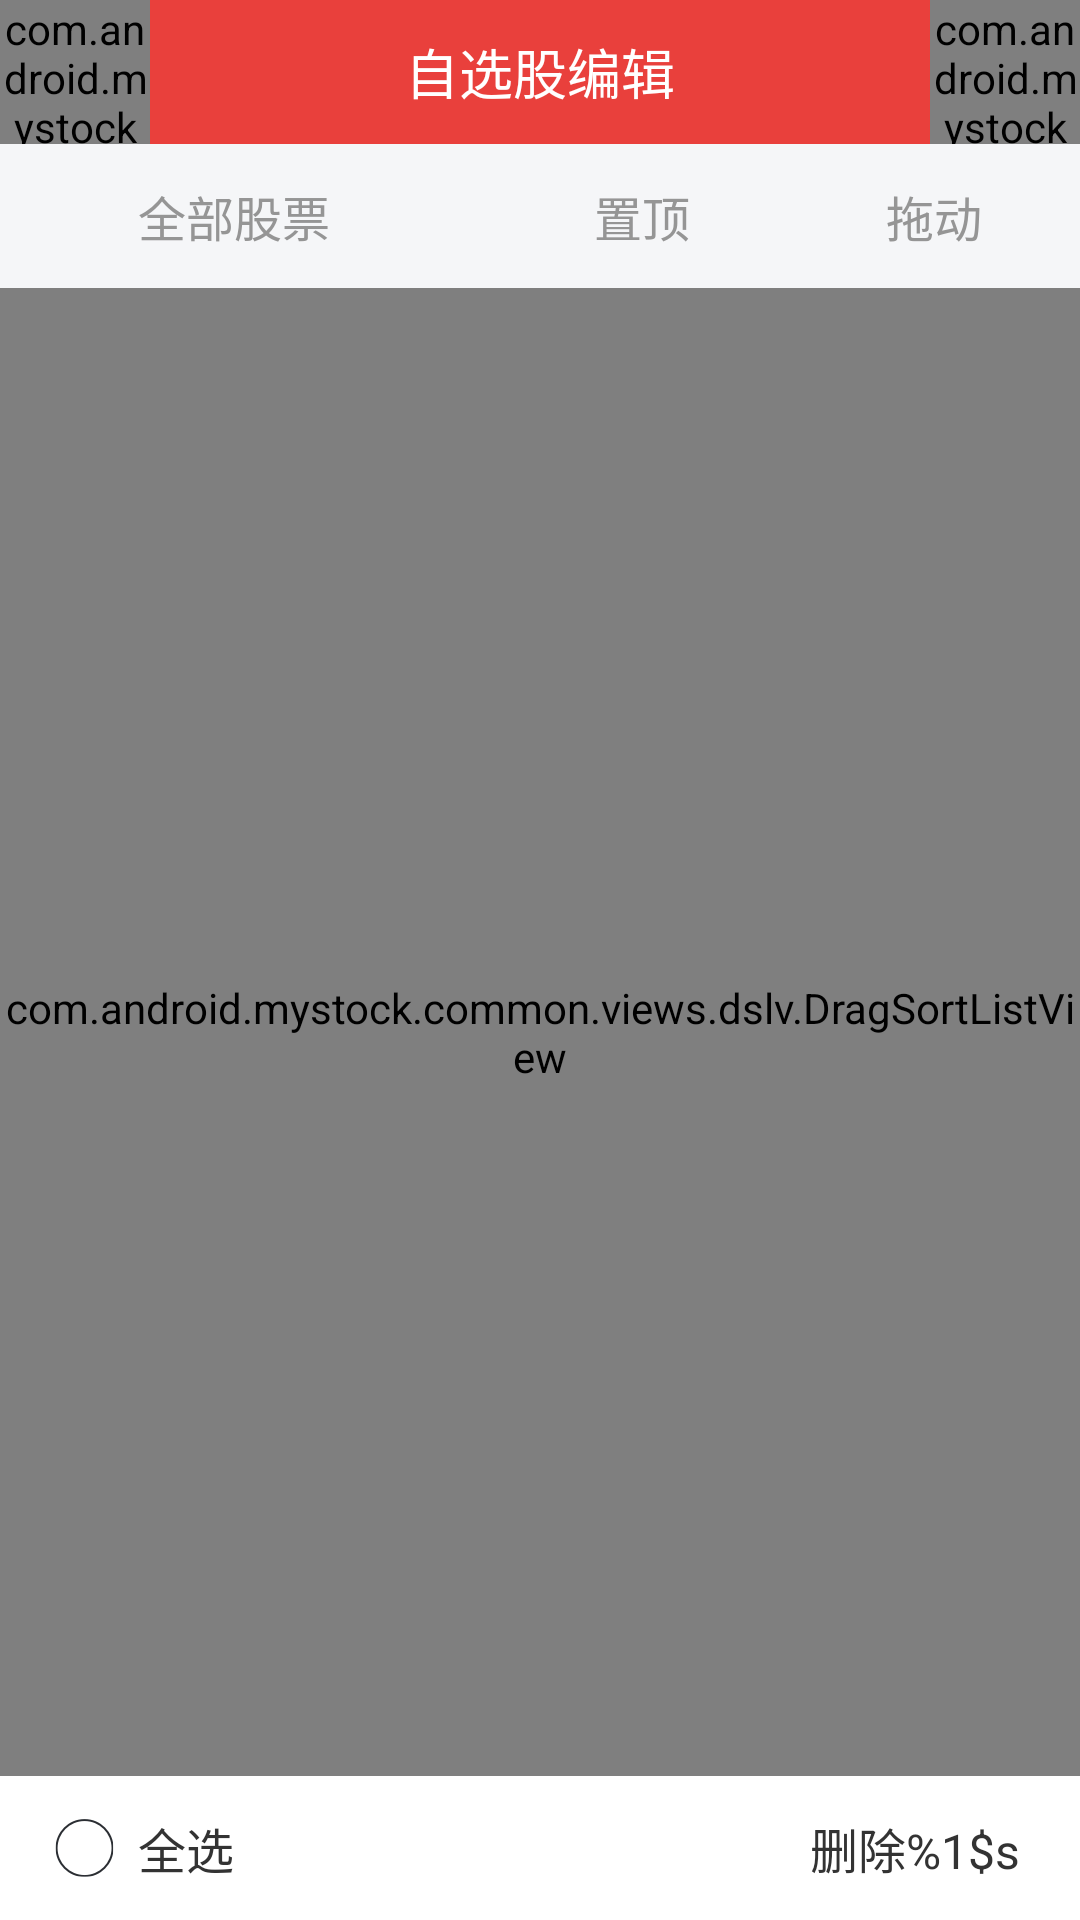

Where icons sit on this 1080x1920 app screen, as (x1, y1, x2, y2):
fuxuan: (55, 1819, 113, 1877)
